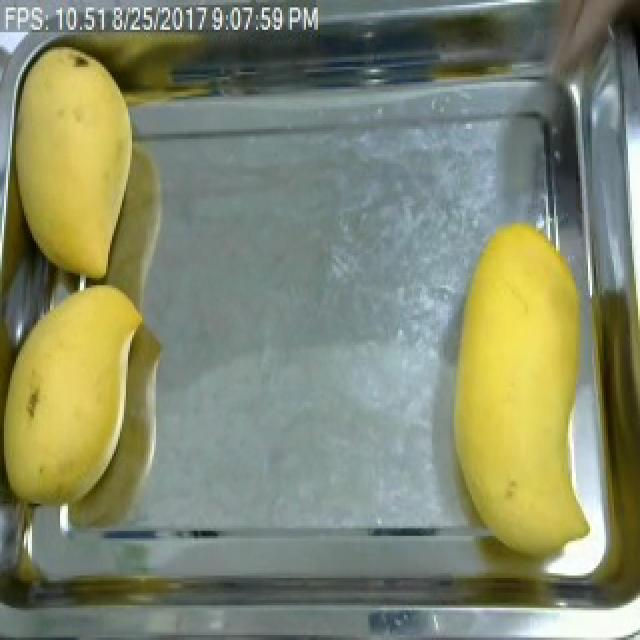fruit: (434, 216, 598, 573), (2, 35, 152, 290), (0, 273, 146, 516)
